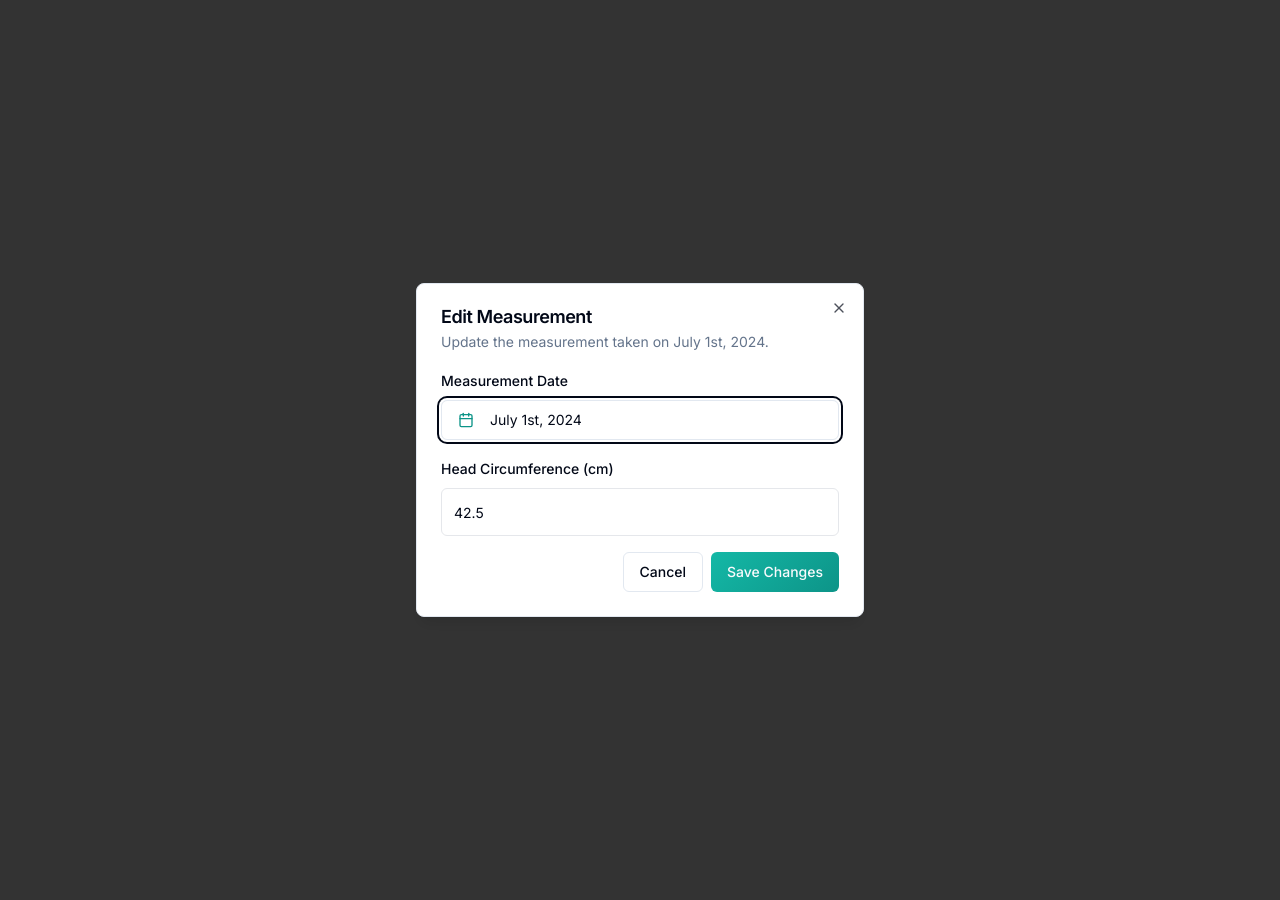
Test: EditMeasurementDialog › shows validation error when size is empty
Clear the field showing "42.5" at (640, 512), box [441,488,839,536]
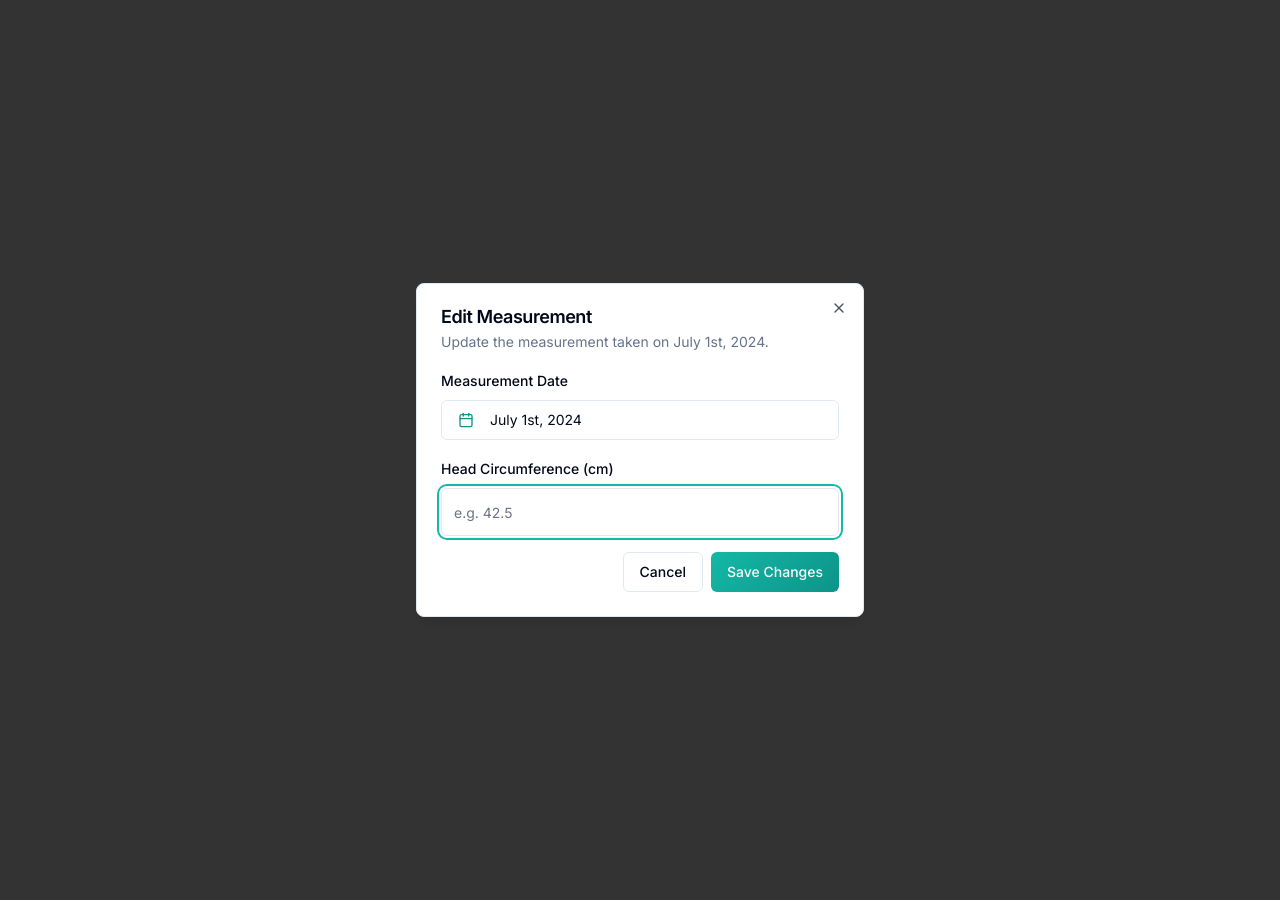
Click the button "Save Changes" at (775, 572), box [711,552,839,592]
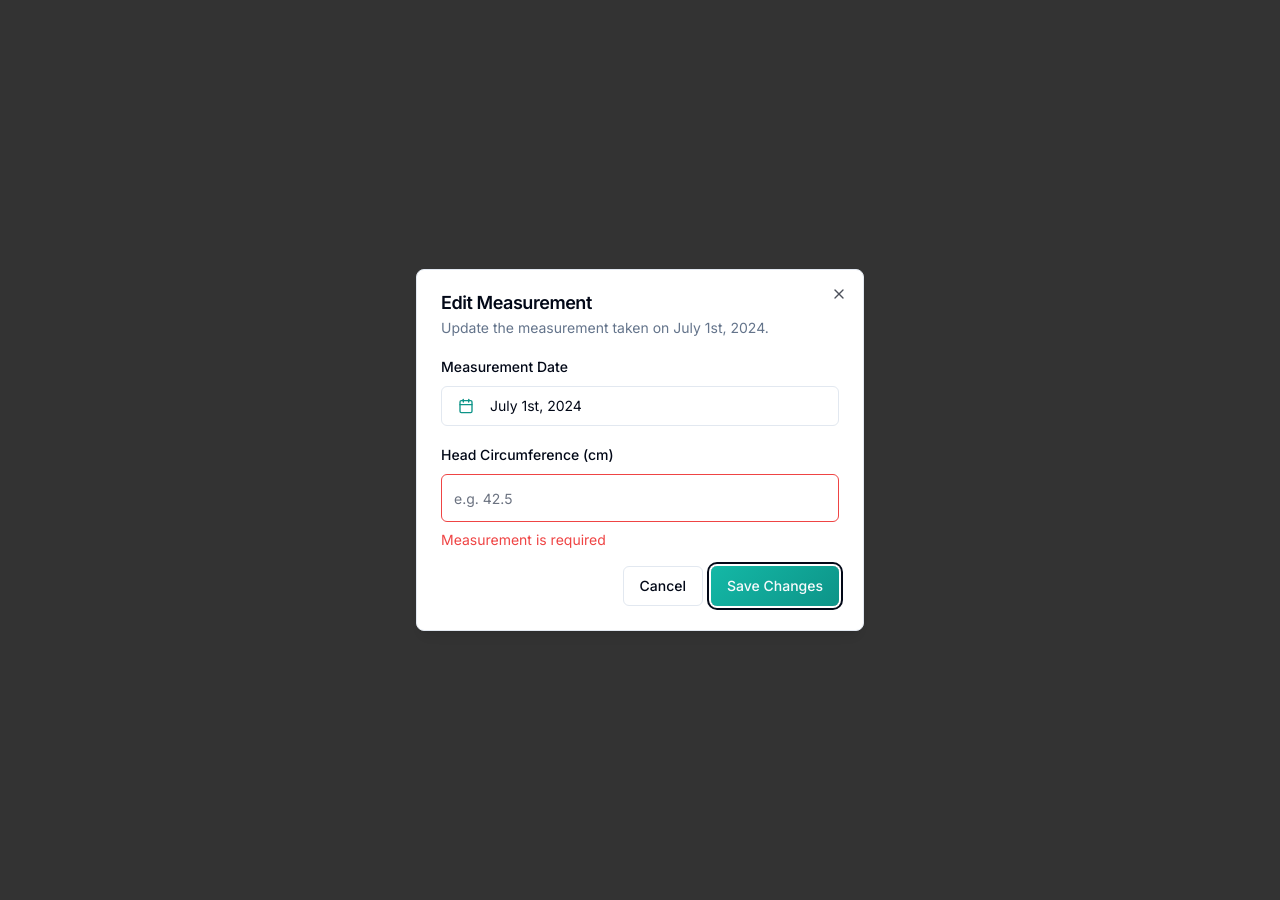
expect the text "Measurement is required" is shown: met, box [441,531,606,548]
